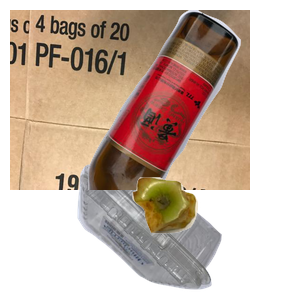cardboard: (10, 10, 250, 190)
glass: (85, 10, 300, 190)
plastic: (75, 147, 289, 300)
trash: (130, 175, 300, 300)
